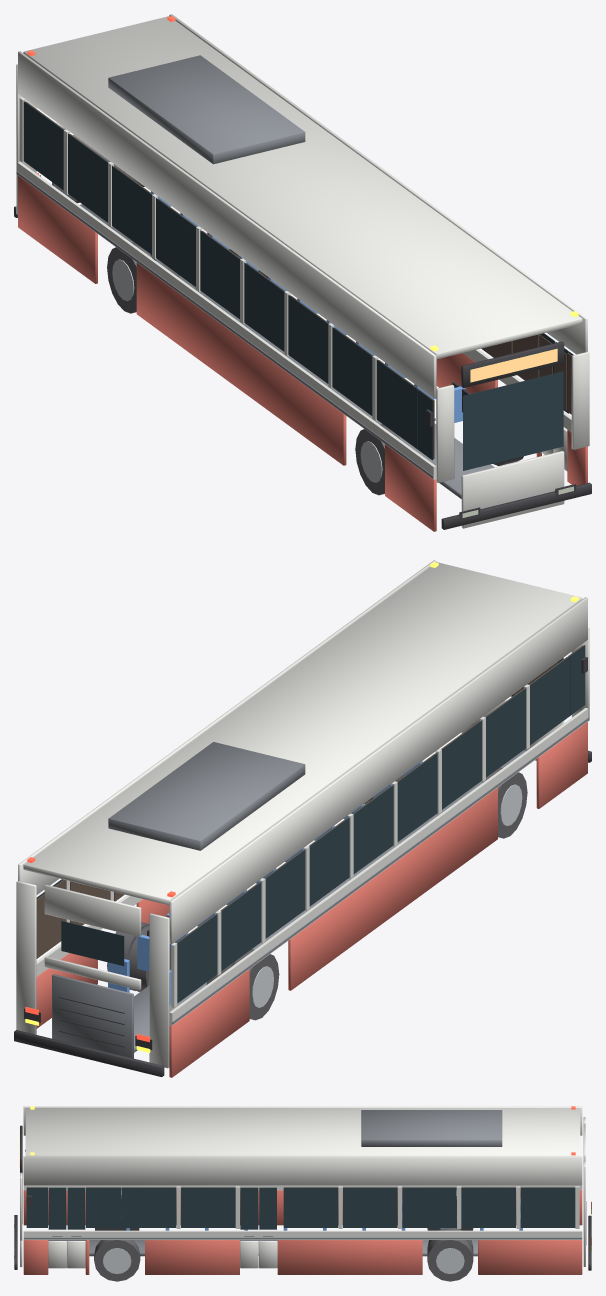
The model's file is Bus_City40_Red.fbx.
3 views of the same model, one above another, from view 1: azimuth 30°, elevation 25°; view 2: azimuth 150°, elevation 25°; view 3: azimuth 270°, elevation 25° (orthographic). The views are drawn at different scales.
Parts seen in each view (by area): view 1: LOD0; view 2: LOD0; view 3: LOD0.
Boxes of the visible parts, box(x1,y1,x2,y2) form: LOD0: box(14, 14, 591, 531); LOD0: box(14, 560, 591, 1077); LOD0: box(14, 1106, 591, 1281).
Size of what is drawn, in the model's own units: 264 by 320 by 1250.
